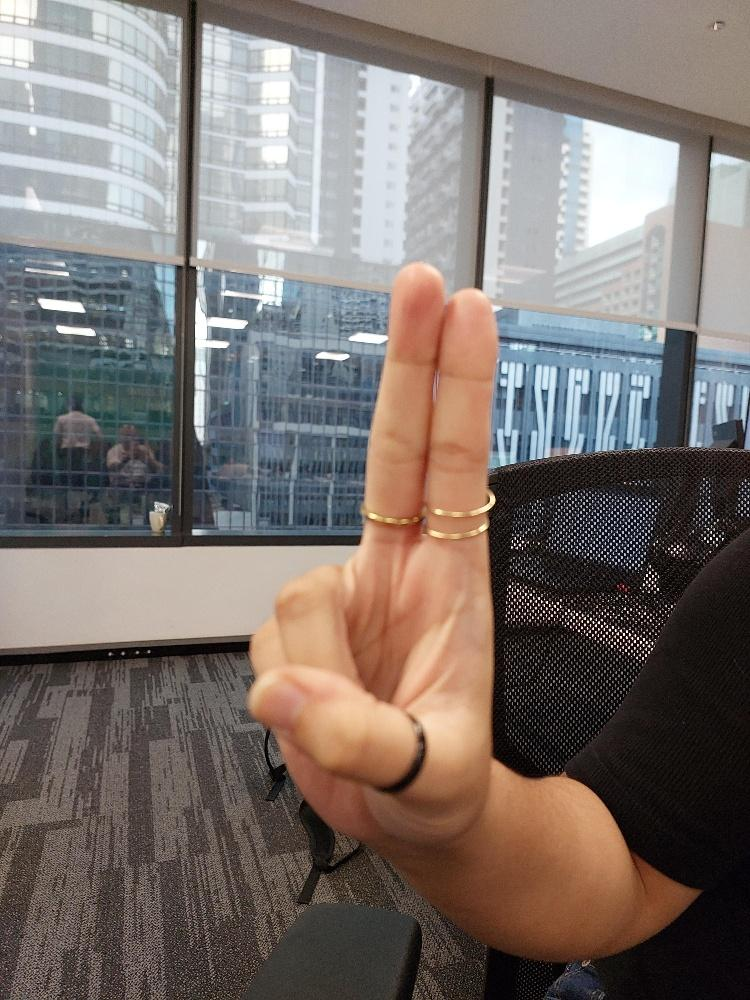u: (245, 259, 503, 848)
